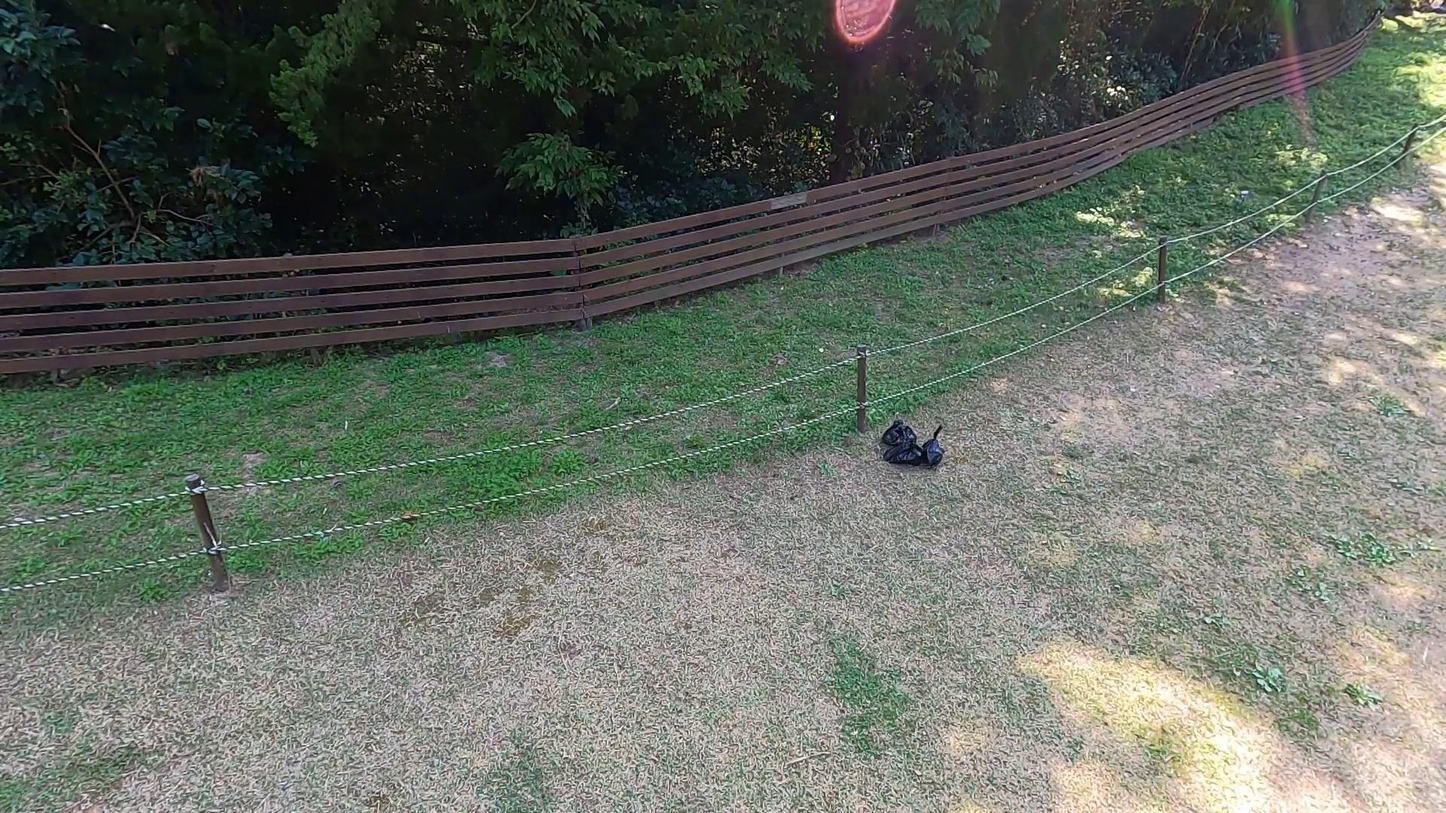trash: (883, 436, 926, 468), (920, 422, 947, 470), (882, 417, 917, 449)
